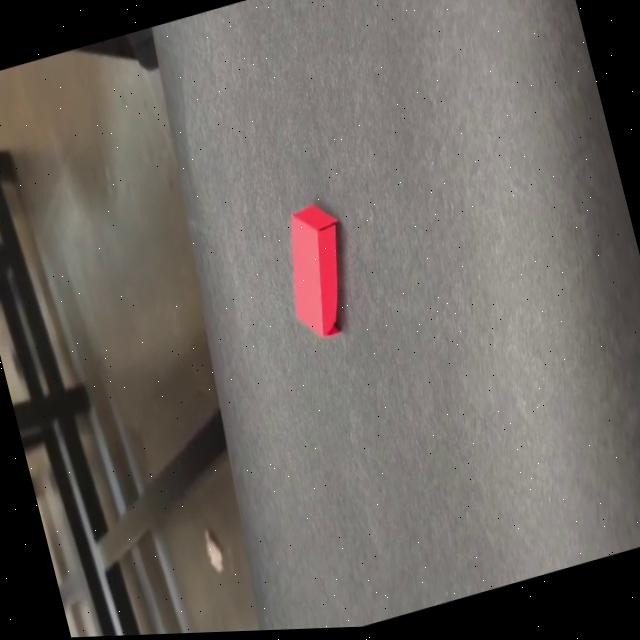red block: (268, 196, 362, 345)
